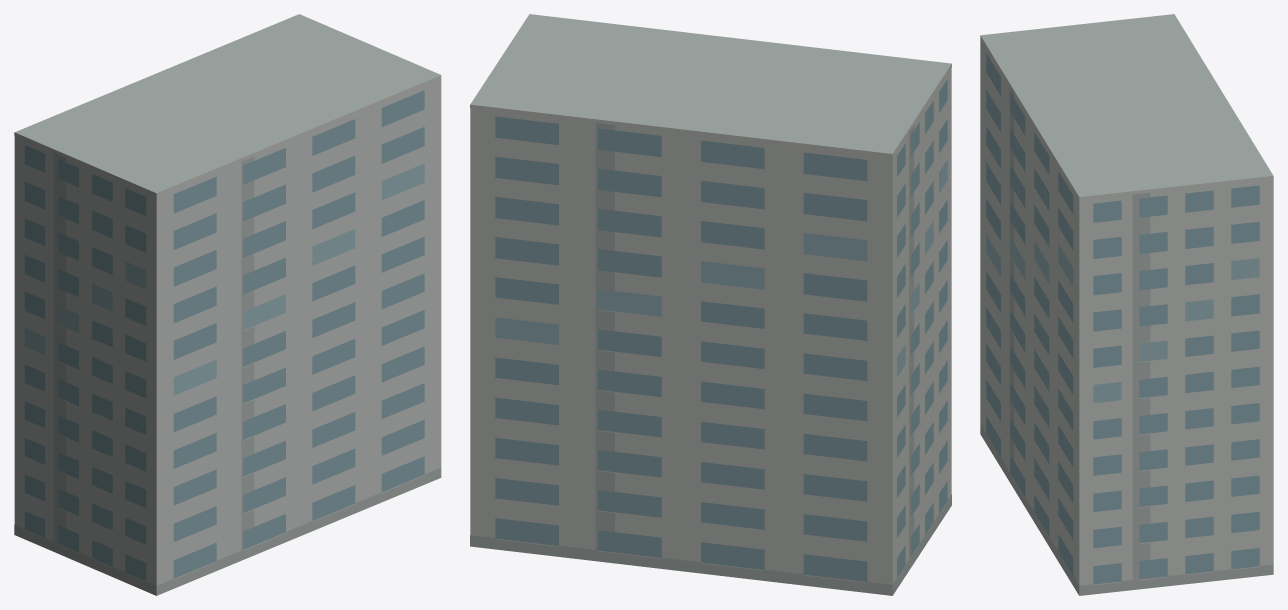
File: residential-ea014c54-5315-48f4-b9f4-86b87c8131c1.glb
3 views of the same model, side by side, from view 1: azimuth 30°, elevation 25°; view 2: azimuth 150°, elevation 25°; view 3: azimuth 270°, elevation 25° (orthographic). The views are drawn at different scales.
Parts seen in each view (by area): view 1: residential-ea014c54-5315-48f4-b9f4-86b87c8131c1.tmp; view 2: residential-ea014c54-5315-48f4-b9f4-86b87c8131c1.tmp; view 3: residential-ea014c54-5315-48f4-b9f4-86b87c8131c1.tmp.
Part boxes in pixels (x1,y1,x2,y2): residential-ea014c54-5315-48f4-b9f4-86b87c8131c1.tmp: (14,14,441,595); residential-ea014c54-5315-48f4-b9f4-86b87c8131c1.tmp: (470,14,951,595); residential-ea014c54-5315-48f4-b9f4-86b87c8131c1.tmp: (980,14,1273,595).
Bounding box in the file's own units: 28.57 × 29 × 19.34.
